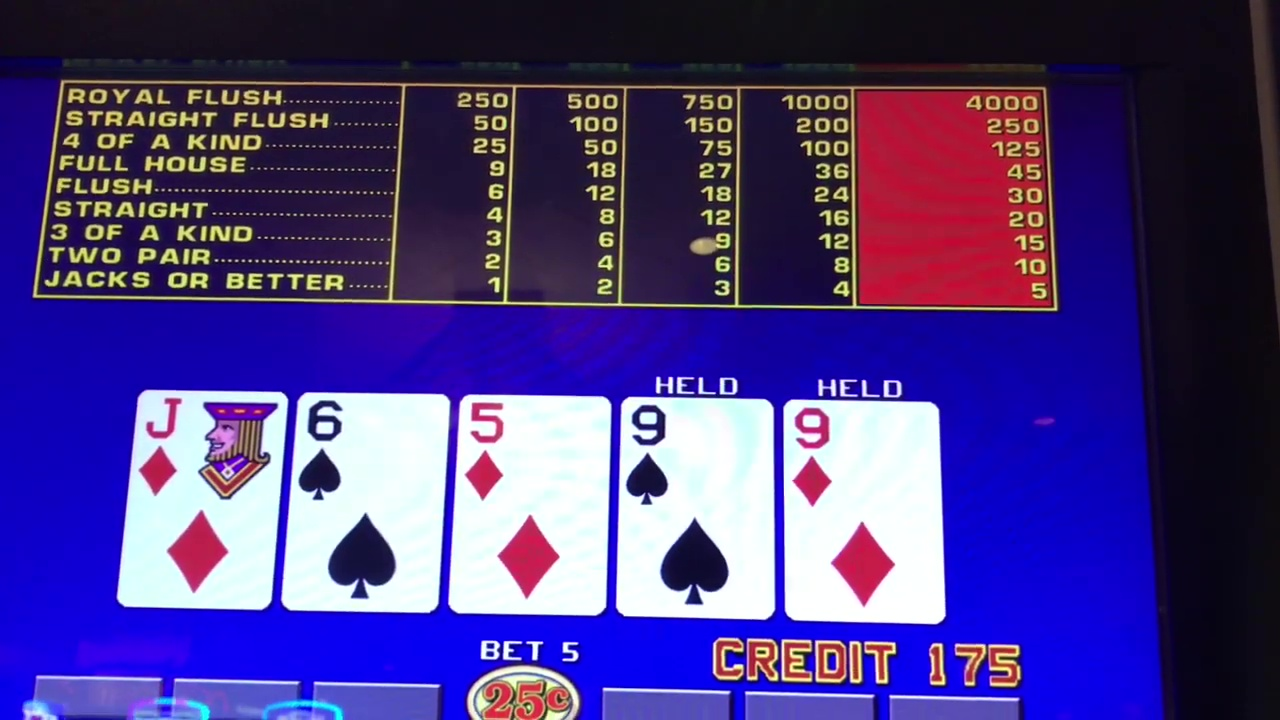D5: (464, 397, 599, 504)
D9: (787, 402, 939, 513)
DJ: (134, 388, 273, 497)
S6: (298, 393, 434, 501)
S9: (624, 400, 768, 508)
